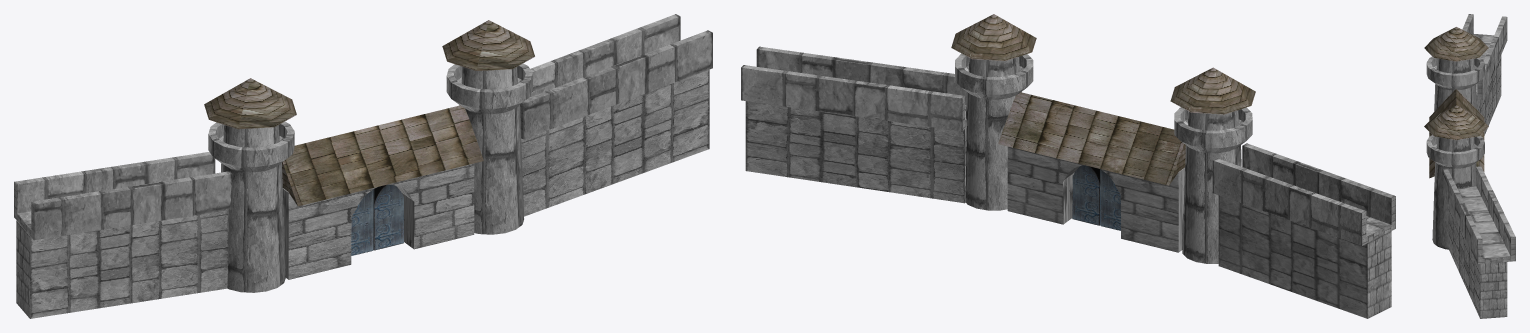
File: Wall.obj
3 views of the same model, side by side, from view 1: azimuth 30°, elevation 25°; view 2: azimuth 150°, elevation 25°; view 3: azimuth 270°, elevation 25° (orthographic). The views are drawn at different scales.
Visible parts, largest first — view 1: Reino_muro01, Reino_muro02, Reino_muro_topo01, Reino_muro_topo02, Reino_telhado01, Reino_muro_portao, Reino_muro_cilindro01, Reino_muro_cilindro02, Reino_telhado02, Reino_telhado03, Reino_portao02, Reino_portao01; view 2: Reino_muro02, Reino_muro01, Reino_muro_topo02, Reino_muro_topo01, Reino_telhado01, Reino_muro_portao, Reino_muro_cilindro02, Reino_muro_cilindro01, Reino_telhado02, Reino_telhado03, Reino_portao02, Reino_portao01; view 3: Reino_muro_topo02, Reino_muro_cilindro02, Reino_muro02, Reino_muro_cilindro01, Reino_telhado02, Reino_telhado03, Reino_muro_topo01, Reino_muro01, Reino_telhado01.
Boxes of the visible parts, left/top/right/bottom form: Reino_muro01: left=16, top=210, right=228, bottom=318; Reino_muro02: left=521, top=69, right=709, bottom=216; Reino_muro_topo01: left=14, top=152, right=232, bottom=240; Reino_muro_topo02: left=520, top=14, right=712, bottom=139; Reino_telhado01: left=282, top=105, right=483, bottom=206; Reino_muro_portao: left=283, top=163, right=474, bottom=279; Reino_muro_cilindro01: left=208, top=121, right=294, bottom=292; Reino_muro_cilindro02: left=446, top=63, right=532, bottom=234; Reino_telhado02: left=204, top=78, right=296, bottom=129; Reino_telhado03: left=442, top=20, right=534, bottom=70; Reino_portao02: left=373, top=184, right=403, bottom=250; Reino_portao01: left=351, top=189, right=373, bottom=255; Reino_muro02: left=745, top=101, right=966, bottom=203; Reino_muro01: left=1218, top=195, right=1391, bottom=318; Reino_muro_topo02: left=741, top=46, right=967, bottom=131; Reino_muro_topo01: left=1212, top=143, right=1395, bottom=245; Reino_telhado01: left=998, top=92, right=1185, bottom=185; Reino_muro_portao: left=1007, top=146, right=1184, bottom=252; Reino_muro_cilindro02: left=955, top=53, right=1033, bottom=210; Reino_muro_cilindro01: left=1174, top=107, right=1252, bottom=263; Reino_telhado02: left=1170, top=67, right=1255, bottom=114; Reino_telhado03: left=951, top=14, right=1036, bottom=60; Reino_portao02: left=1072, top=165, right=1100, bottom=225; Reino_portao01: left=1100, top=169, right=1120, bottom=230; Reino_muro_topo02: left=1442, top=166, right=1515, bottom=263; Reino_muro_cilindro02: left=1426, top=135, right=1484, bottom=249; Reino_muro02: left=1448, top=205, right=1507, bottom=318; Reino_muro_cilindro01: left=1426, top=56, right=1484, bottom=111; Reino_telhado02: left=1424, top=27, right=1488, bottom=61; Reino_telhado03: left=1424, top=105, right=1488, bottom=140; Reino_muro_topo01: left=1462, top=14, right=1507, bottom=100; Reino_muro01: left=1476, top=55, right=1501, bottom=135; Reino_telhado01: left=1429, top=89, right=1484, bottom=178.
Bounding box in the file's own units: 162852 × 45684 × 27969.
